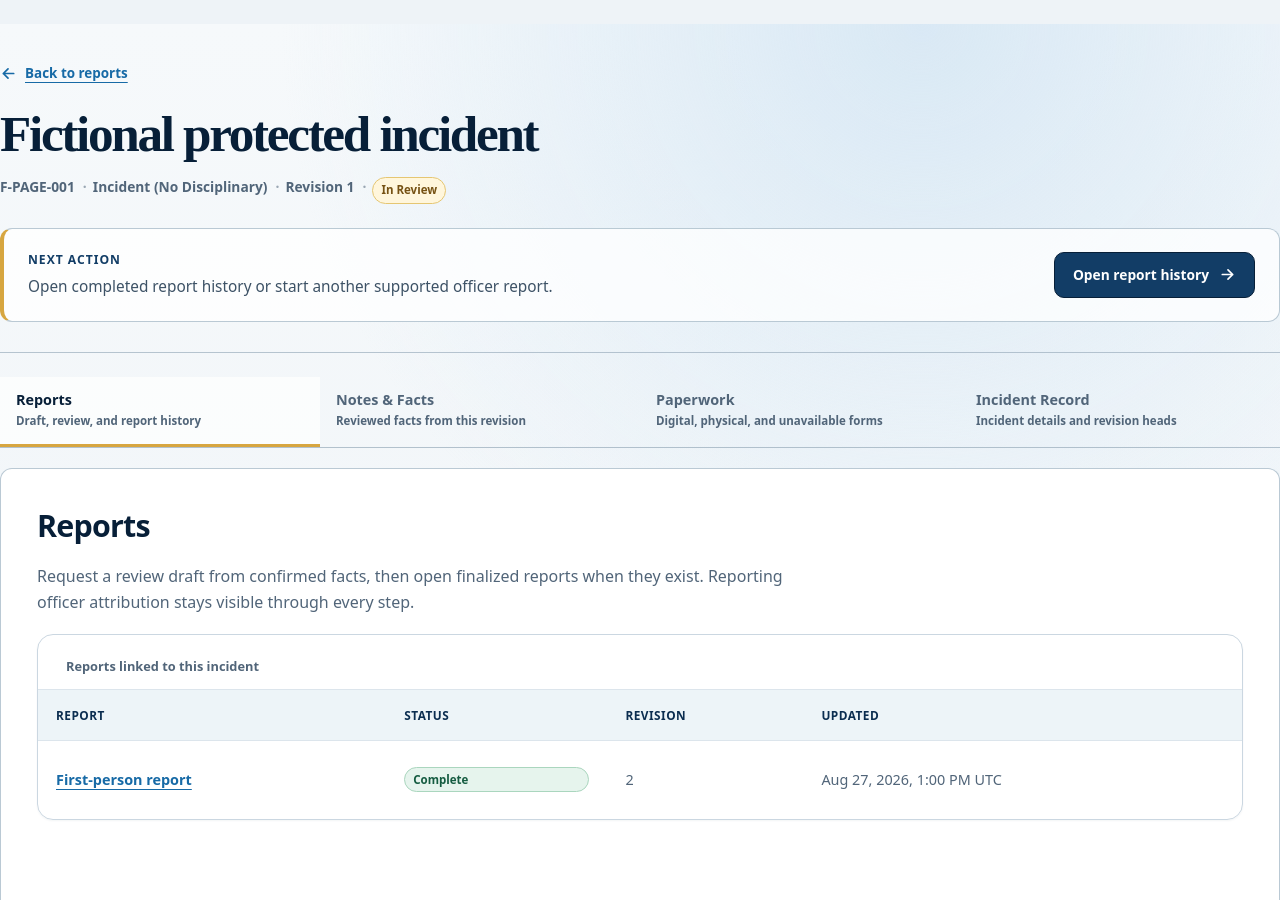
it: DocumentStudio › combines incident overview and report revision heads in Incident Record
The image size is (1280, 900).
Click the tab "Incident Record Incident details and revision heads".
click(1120, 412)  # box [960,377,1279,447]
(page scrolled)
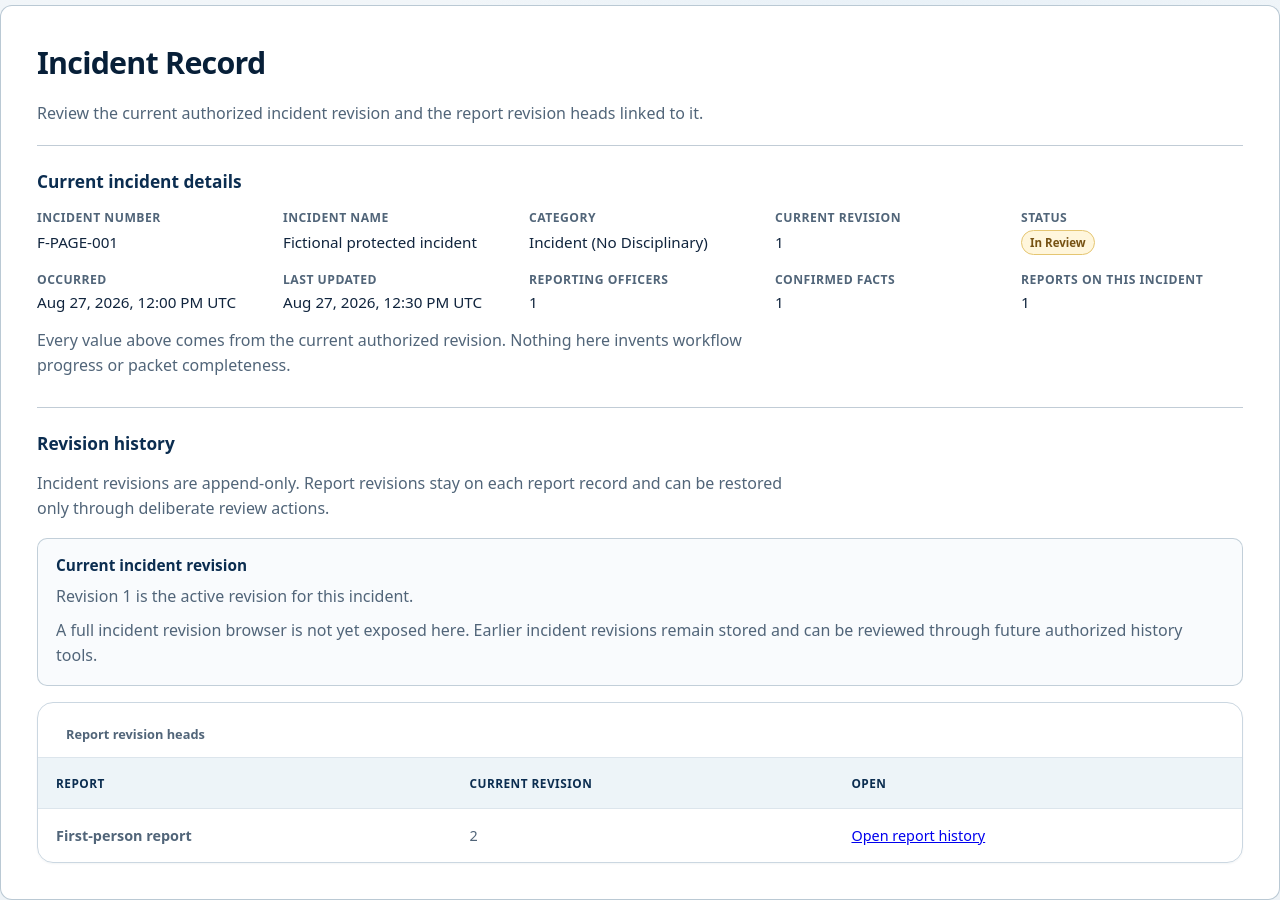
expect the heading "Incident Record" is shown: met, box [37,42,265,83]
expect the heading "Current incident revision" is shown: met, box [56,555,247,576]
expect the text "Revision 1 is the active revision for this incident." is shown: met, box [56,585,413,607]
